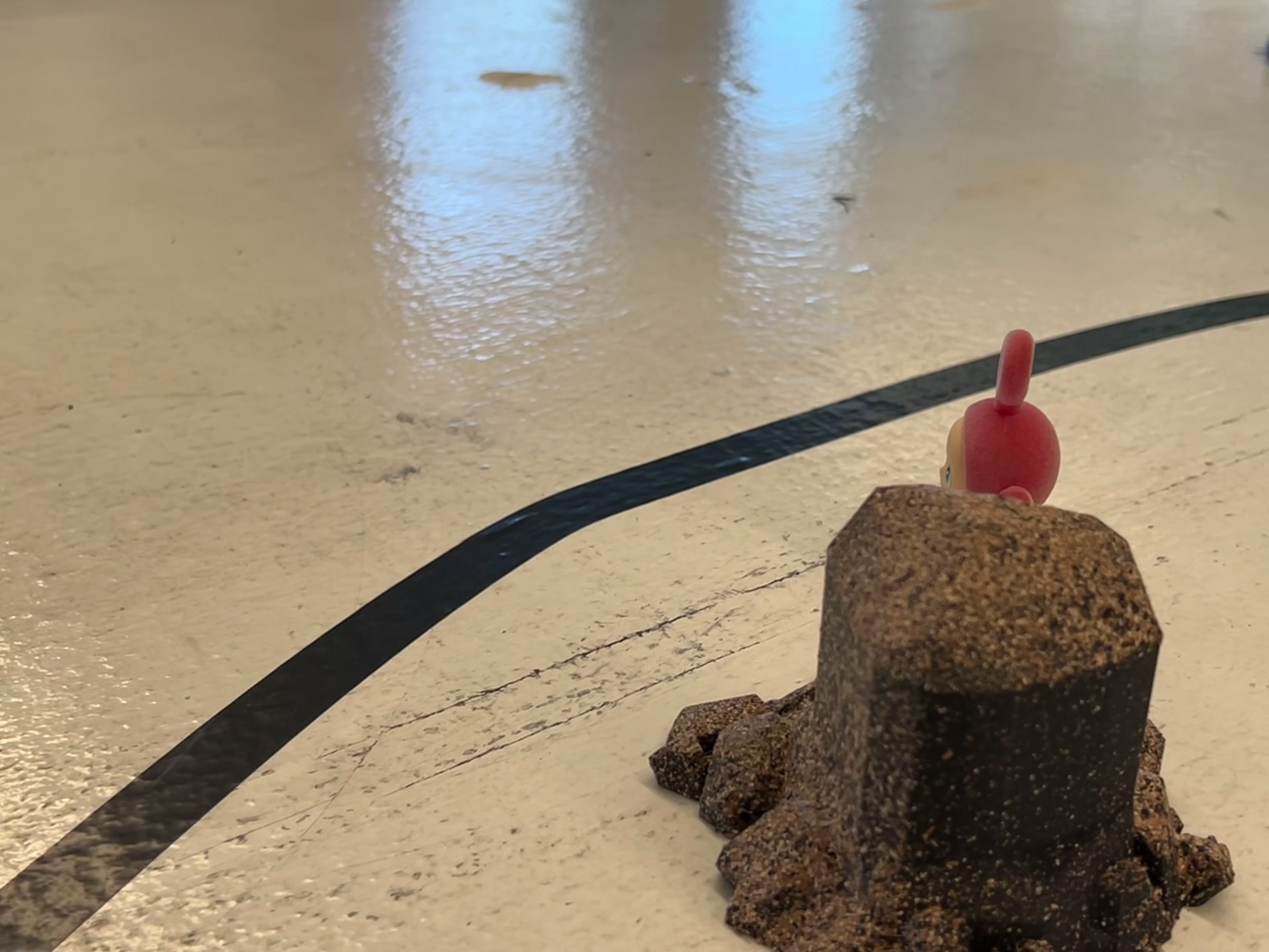teletubby: (940, 329, 1059, 503)
